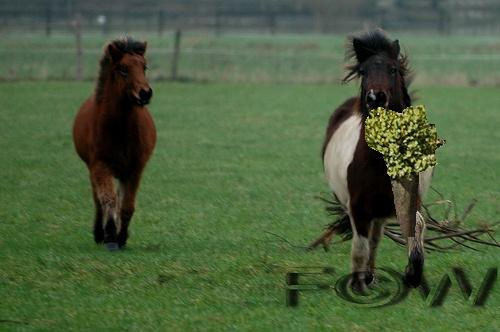tampered: (365, 106, 446, 237)
